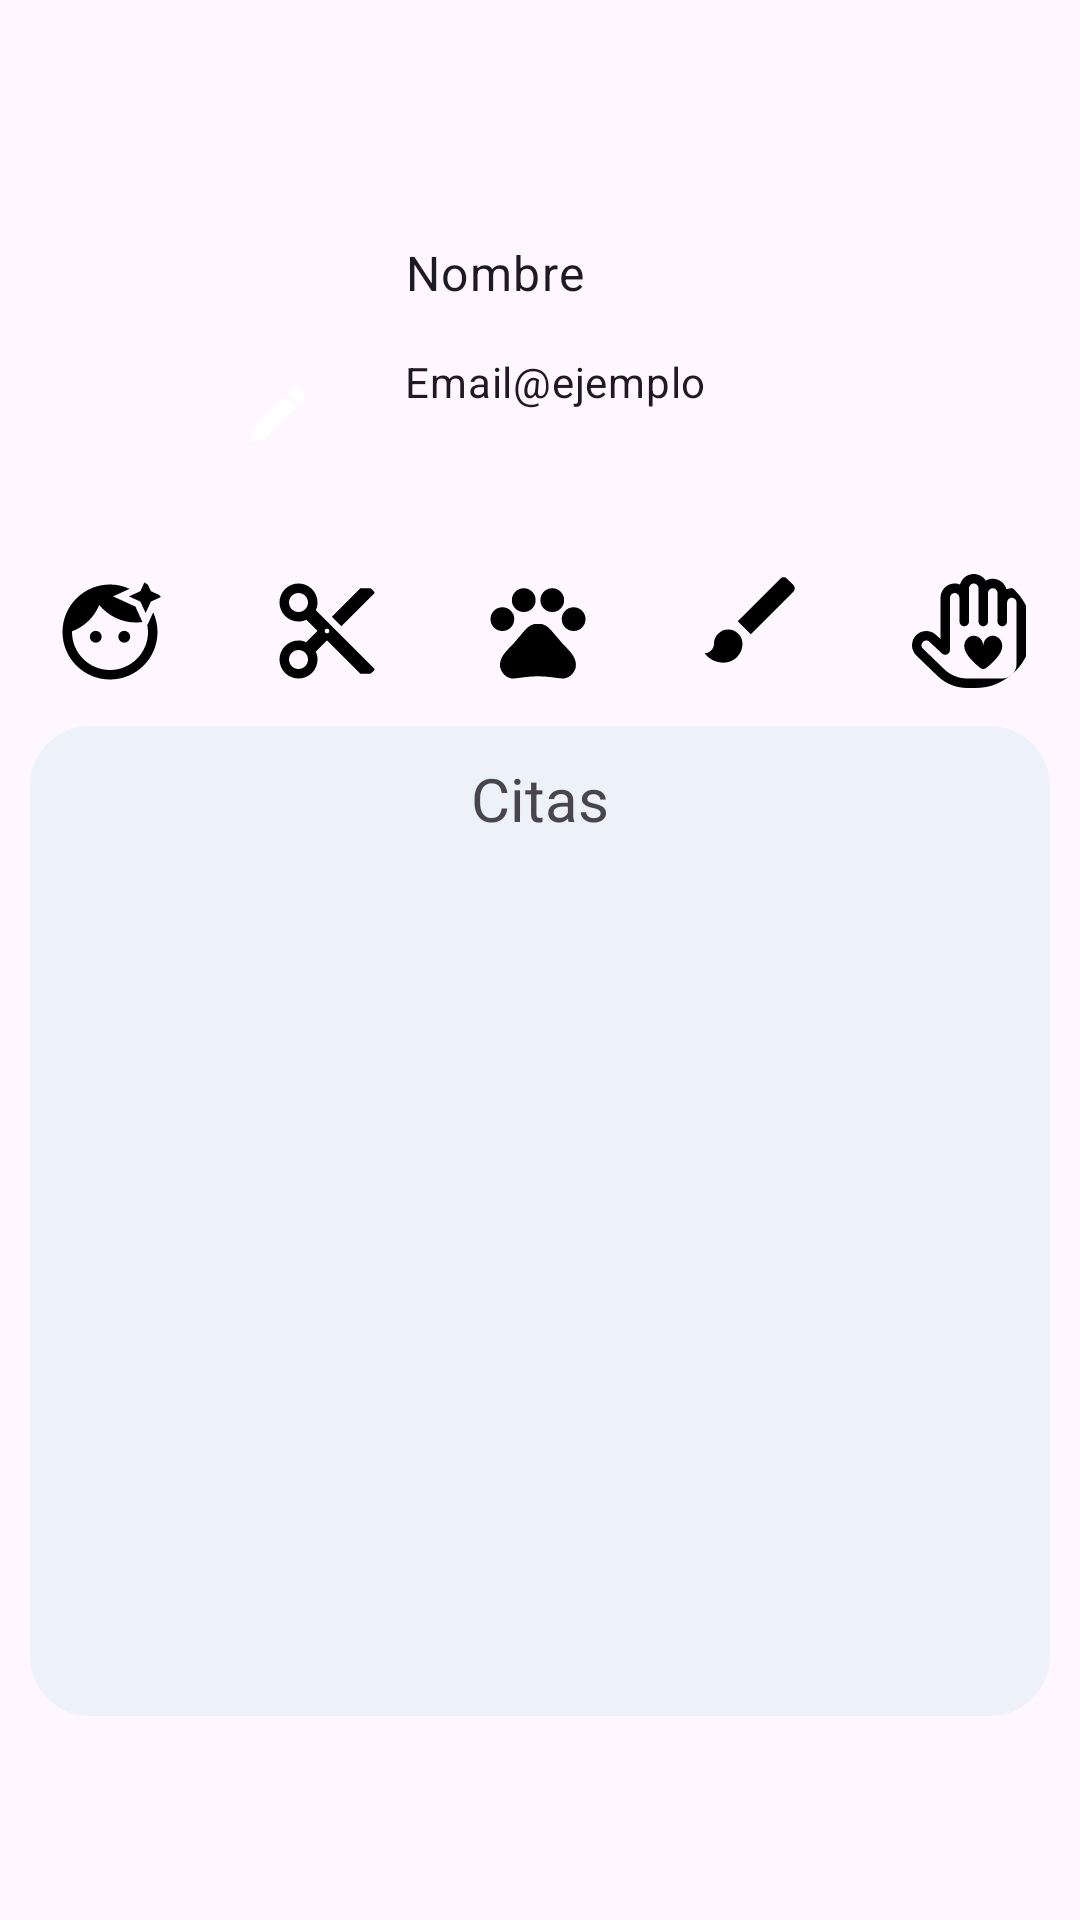

Named icons in this screenshot (1080 x 1920) and their bounding boxes, BBox(x1, y1, x2, y2):
beauty: BBox(62, 582, 161, 680)
brush: BBox(704, 577, 795, 663)
fisio: BBox(912, 574, 1026, 688)
hair dresser: BBox(279, 583, 375, 679)
pet: BBox(490, 588, 586, 679)
